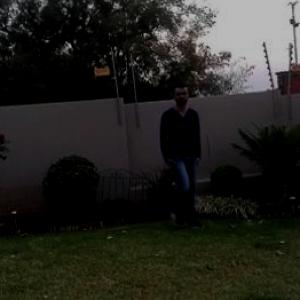follow: (143, 70, 210, 256)
